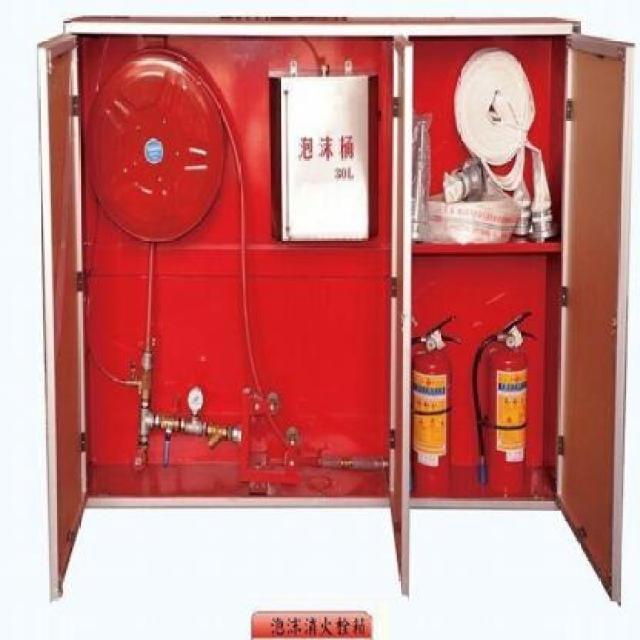firehydrant: (34, 9, 640, 608)
